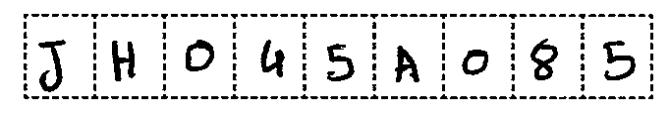0: (182, 36, 217, 79), (456, 42, 494, 81)
4: (253, 36, 291, 86)
5: (598, 37, 639, 82), (324, 41, 362, 85)
8: (528, 37, 562, 83)
A: (387, 42, 427, 88)
H: (104, 34, 145, 89)
J: (33, 37, 70, 94)
